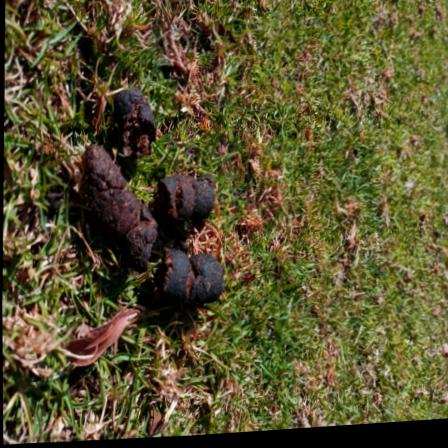dog-poop: (84, 78, 229, 320)
